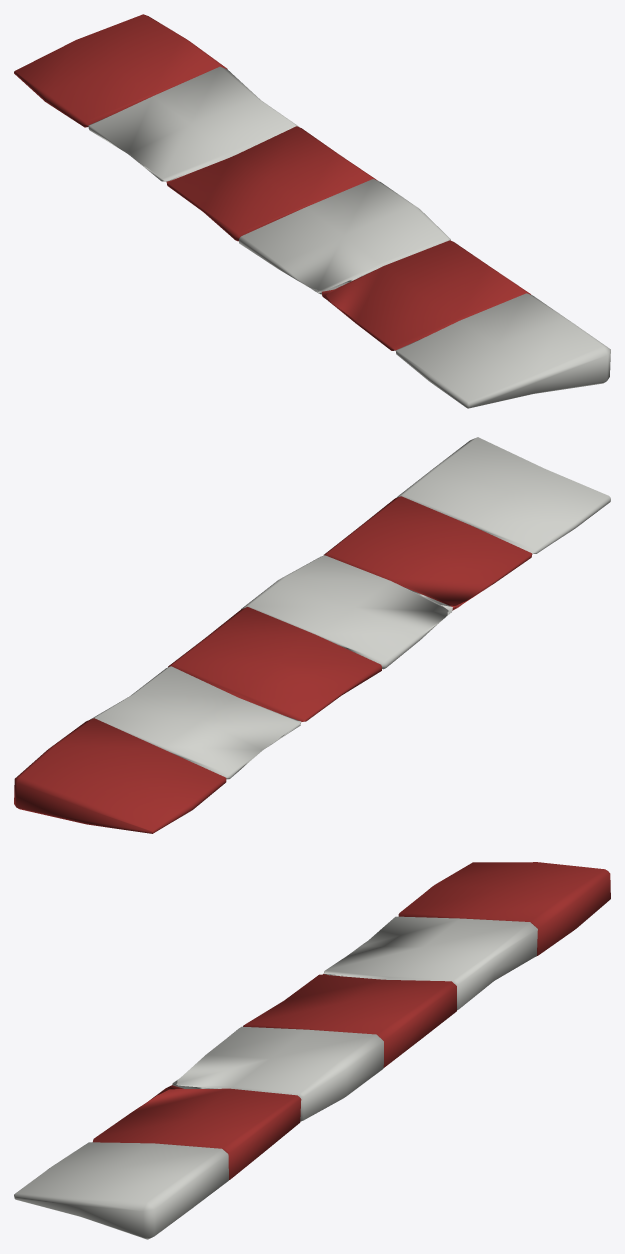
The model's file is curb.glb.
3 views of the same model, one above another, from view 1: azimuth 30°, elevation 25°; view 2: azimuth 150°, elevation 25°; view 3: azimuth 330°, elevation 25° (orthographic).
Visible parts, largest first — view 1: Body.008; view 2: Body.008; view 3: Body.008.
Part boxes in pixels (bbox=[...]): Body.008: bbox=[14, 14, 610, 408]; Body.008: bbox=[14, 437, 610, 833]; Body.008: bbox=[14, 862, 610, 1239].
Bounding box in the file's own units: 0.54 × 0.1379 × 3.
